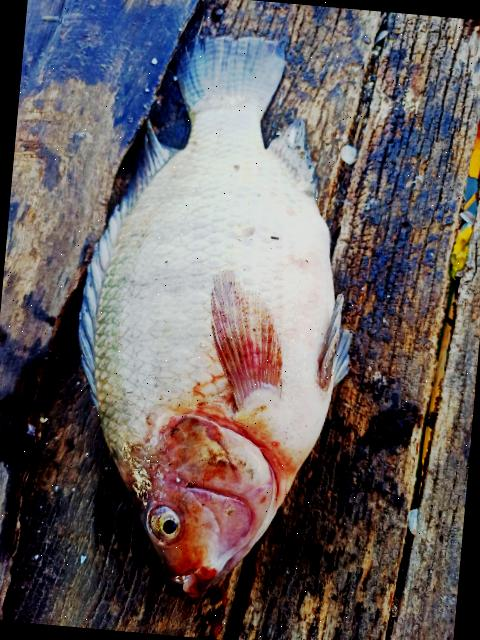Columnaris Disease: (78, 36, 350, 597)
